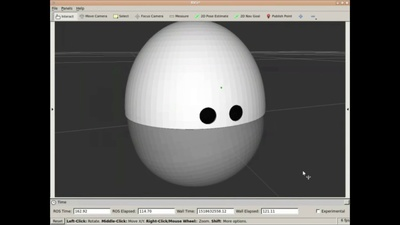mira_robot: (124, 22, 266, 186)
